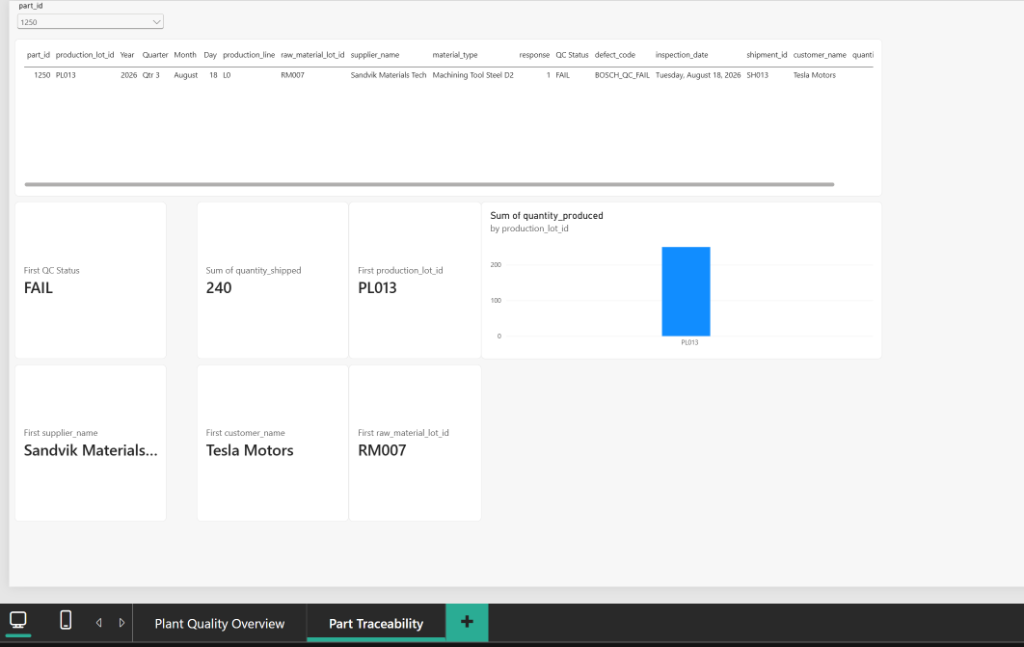

The dashboard page shown, as its layout file describes it:
{"tool":"powerbi","page":{"name":"Part Traceability","canvas":[1920,1080],"ordinal":1},"visuals":[{"type":"slicer","fields":{"Values":["public traceability_view.part_id"]},"box":[10,0,280,70],"z":0},{"type":"tableEx","fields":{"Values":["public traceability_view.part_id","public traceability_view.production_lot_id","public traceability_view.production_date.Variation.Date Hierarchy.Year","public traceability_view.production_date.Variation.Date Hierarchy.Quarter","public traceability_view.production_date.Variation.Date Hierarchy.Month","public traceability_view.production_date.Variation.Date Hierarchy.Day","public traceability_view.production_line","public traceability_view.raw_material_lot_id","public traceability_view.supplier_name","public traceability_view.material_type","public traceability_view.response","public traceability_view.QC Status"]},"box":[10,70,1600,290],"z":1000},{"type":"cardVisual","fields":{"Data":["Min(public traceability_view.QC Status)"]},"box":[10,370,280,290],"z":2000},{"type":"cardVisual","fields":{"Data":["Sum(public traceability_view.quantity_shipped)"]},"box":[345,370,280,290],"z":3000},{"type":"cardVisual","fields":{"Data":["Min(public traceability_view.supplier_name)"]},"box":[10,670,280,290],"z":4000},{"type":"cardVisual","fields":{"Data":["Min(public traceability_view.customer_name)"]},"box":[345,670,280,290],"z":5000},{"type":"cardVisual","fields":{"Data":["Min(public traceability_view.production_lot_id)"]},"box":[625,370,245,290],"z":6000},{"type":"cardVisual","fields":{"Data":["Min(public traceability_view.raw_material_lot_id)"]},"box":[625,670,245,290],"z":7000},{"type":"clusteredColumnChart","fields":{"Category":["public traceability_view.production_lot_id"],"Y":["Sum(public traceability_view.quantity_produced)"]},"box":[870,370,740,290],"z":7001}]}

Visuals, with their boxes on the page's 1920x1080 design canvas (x1, y1, x2, y2). These are canvas units, not pixel positions in the 1024x647 screenshot, which may show the page scaled, cropped or inside an application window:
slicer - public traceability_view.part_id: 10:0:290:70
tableEx - public traceability_view.part_id x public traceability_view.production_lot_id: 10:70:1610:360
cardVisual - Min(public traceability_view.QC Status): 10:370:290:660
cardVisual - Sum(public traceability_view.quantity_shipped): 345:370:625:660
cardVisual - Min(public traceability_view.supplier_name): 10:670:290:960
cardVisual - Min(public traceability_view.customer_name): 345:670:625:960
cardVisual - Min(public traceability_view.production_lot_id): 625:370:870:660
cardVisual - Min(public traceability_view.raw_material_lot_id): 625:670:870:960
clusteredColumnChart - public traceability_view.production_lot_id x Sum(public traceability_view.quantity_produced): 870:370:1610:660
